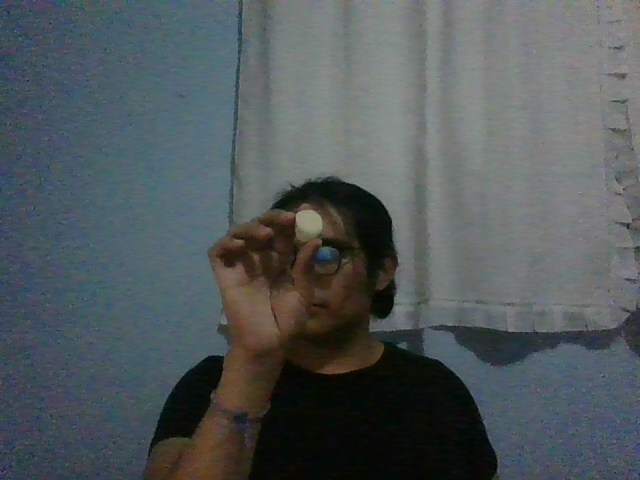goma: (295, 210, 323, 242)
